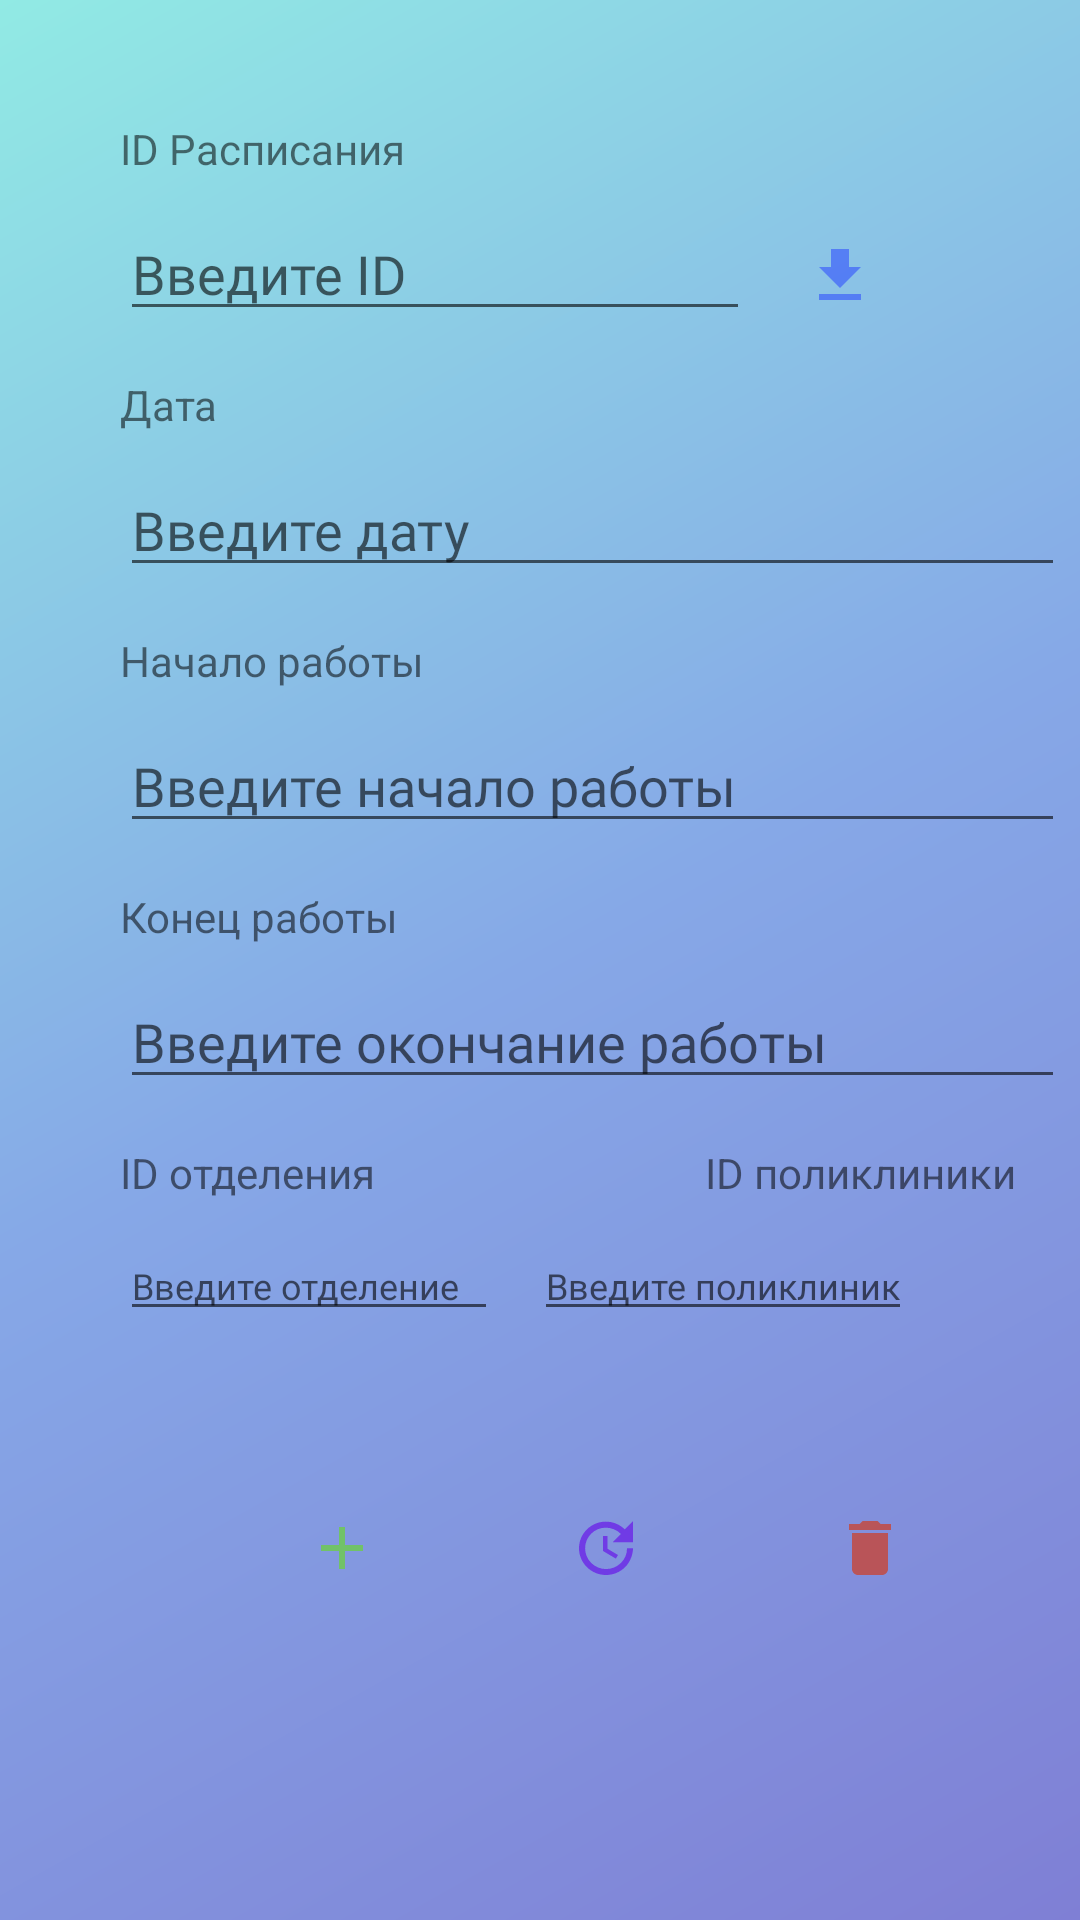

Named icons in this screenshot (1080 x 1920) and their bounding boxes, (x1=x1, y1=y1, x2=x2, y2=y2):
add: (x1=321, y1=1527, x2=363, y2=1569)
delete: (x1=849, y1=1521, x2=891, y2=1575)
get: (x1=819, y1=249, x2=861, y2=300)
update: (x1=579, y1=1521, x2=633, y2=1575)
